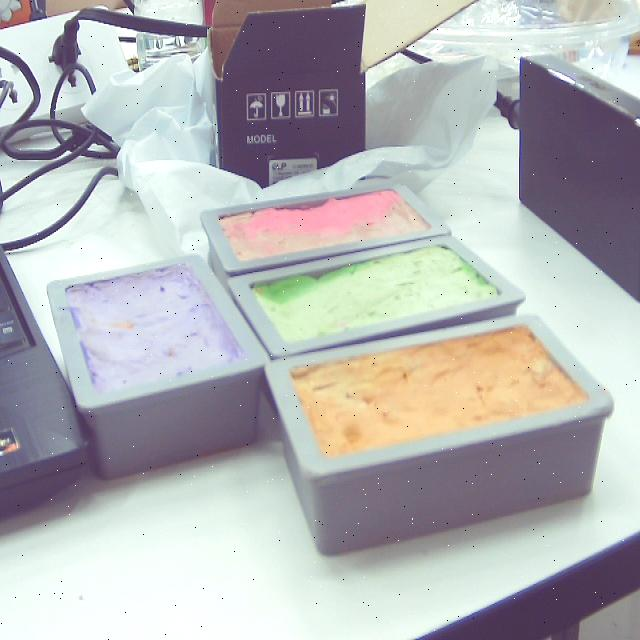block: (266, 310, 616, 554), (45, 253, 272, 478), (225, 231, 526, 361), (197, 183, 451, 279)
